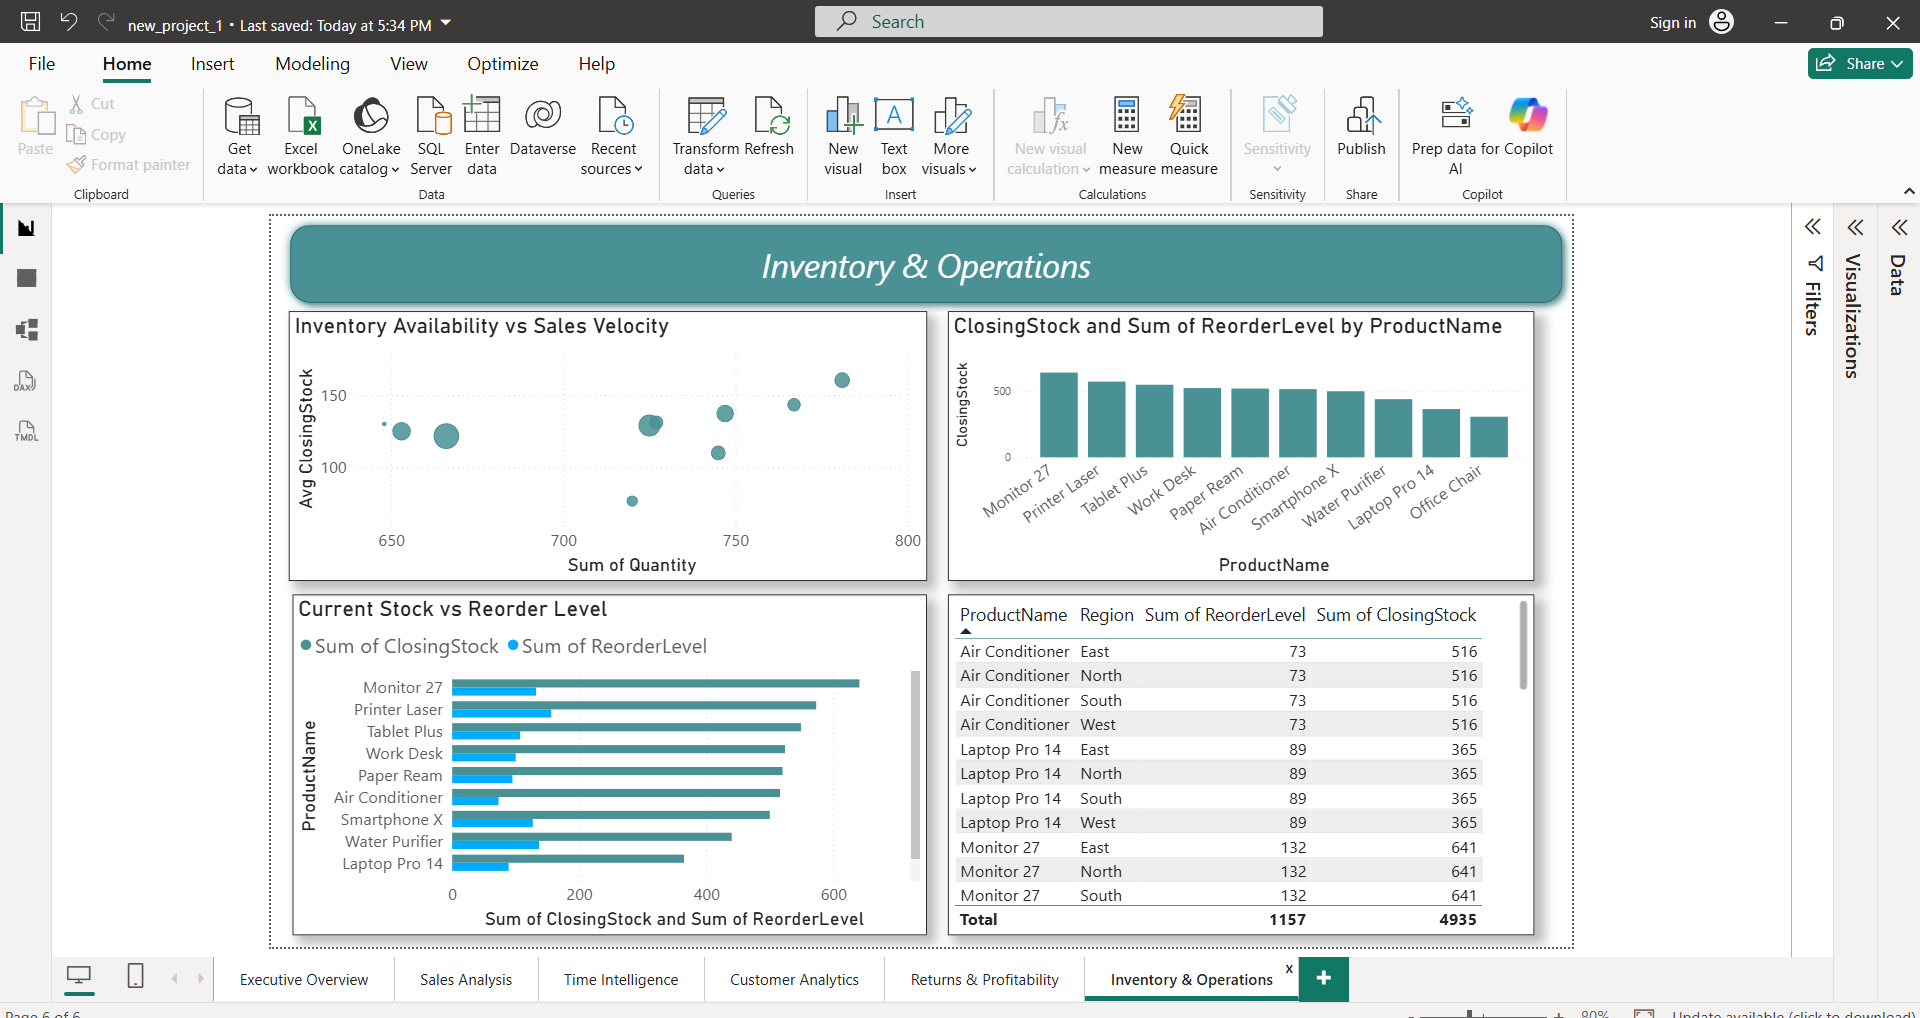

Layout of this report page (visuals, bound fields, positions):
{"tool":"powerbi","page":{"name":"Inventory & Operations","canvas":[1280,720],"ordinal":5},"visuals":[{"type":"shape","box":[10,0,1270,94.3],"z":0},{"type":"clusteredBarChart","title":"Current Stock vs Reorder Level","fields":{"Category":["Products.ProductName"],"Y":["Sum(Inventory_Raw.ClosingStock)","Sum(Inventory_Raw.ReorderLevel)"]},"box":[21.4,372.9,624.3,335.7],"z":1},{"type":"scatterChart","title":"Inventory Availability vs Sales Velocity","fields":{"Y":["Avg(Inventory_Raw.ClosingStock)"],"Category":["Products.ProductName"],"X":["Sum(Orders_Raw.Quantity)"],"Size":["Orders_Raw.Total Net Revenue"]},"box":[17.1,94.3,628.6,265.7],"z":2},{"type":"clusteredColumnChart","fields":{"Category":["Products.ProductName"],"Y":["Sum(Inventory_Raw.ClosingStock)"]},"box":[665.7,94.3,577.1,265.7],"z":3},{"type":"tableEx","fields":{"Values":["Products.ProductName","Orders_Raw.Region","Sum(Inventory_Raw.ReorderLevel)","Sum(Inventory_Raw.ClosingStock)"]},"box":[665.7,372.9,577.1,335.7],"z":4}]}

Visuals, with their boxes on the page's 1280x720 design canvas (x1, y1, x2, y2). These are canvas units, not pixel positions in the 1920x1018 screenshot, which may show the page scaled, cropped or inside an application window:
shape: detection(10, 0, 1280, 94)
"Current Stock vs Reorder Level" clusteredBarChart: detection(21, 373, 646, 709)
"Inventory Availability vs Sales Velocity" scatterChart: detection(17, 94, 646, 360)
clusteredColumnChart - Products.ProductName x Sum(Inventory_Raw.ClosingStock): detection(666, 94, 1243, 360)
tableEx - Products.ProductName x Orders_Raw.Region: detection(666, 373, 1243, 709)
